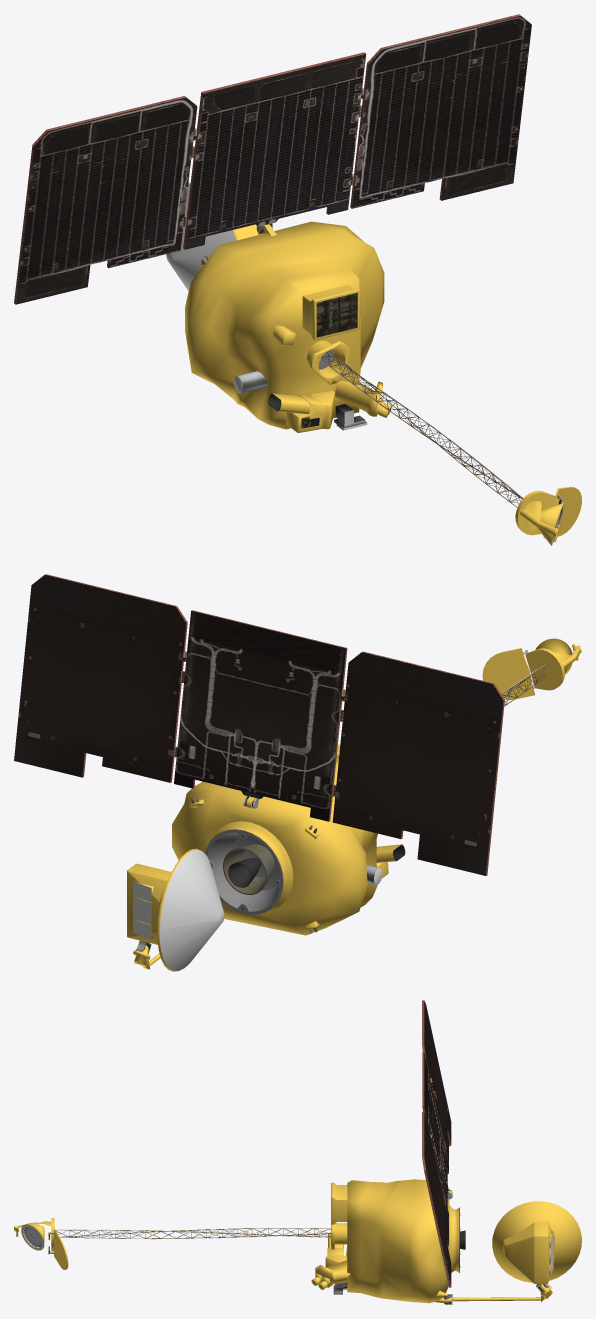
The model's file is odyssey.glb.
The picture shows the model from 3 angles, top to bottom: view 1: azimuth 30°, elevation 25°; view 2: azimuth 150°, elevation 25°; view 3: azimuth 270°, elevation 25°; orthographic projection. The views are drawn at different scales.
Visible parts, largest first — view 1: shiny_panel, foil_gold, tex_boom, tex_01, foil_silver; view 2: tex_01, shiny_panel, foil_gold, foil_silver, tex_04, normal_panels; view 3: foil_gold, tex_01, shiny_panel, tex_boom.
Part boxes in pixels (left/top/right/bottom): shiny_panel: left=14, top=14, right=531, bottom=369; foil_gold: left=185, top=183, right=581, bottom=545; tex_boom: left=320, top=350, right=523, bottom=507; tex_01: left=183, top=88, right=562, bottom=504; foil_silver: left=166, top=184, right=242, bottom=393; tex_01: left=14, top=575, right=534, bottom=887; shiny_panel: left=45, top=574, right=504, bottom=914; foil_gold: left=127, top=638, right=581, bottom=971; foil_silver: left=159, top=850, right=382, bottom=970; tex_04: left=191, top=798, right=378, bottom=932; normal_panels: left=133, top=881, right=151, bottom=939; foil_gold: left=14, top=1179, right=581, bottom=1303; tex_01: left=48, top=1001, right=546, bottom=1303; shiny_panel: left=422, top=1000, right=460, bottom=1287; tex_boom: left=56, top=1228, right=330, bottom=1239.
Size of what is drawn, in the model's own units: 5.67 by 3.36 by 8.22.
Materials: 10 (7 with a texture image).
